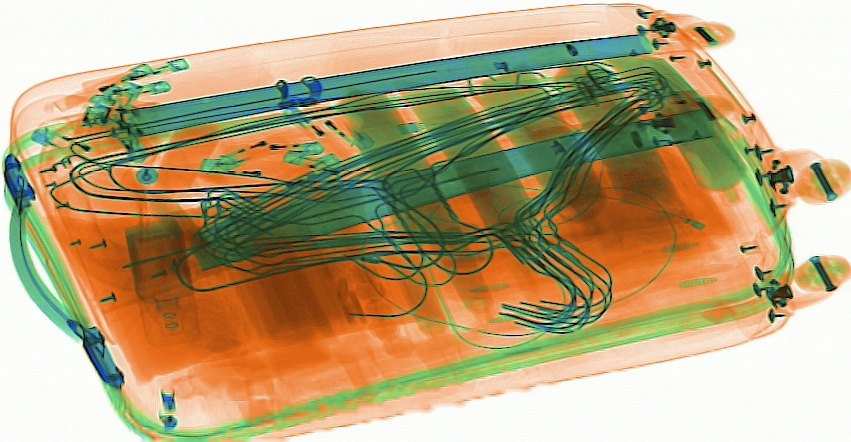lighter: (52, 59, 153, 114), (294, 95, 376, 155), (279, 102, 354, 167), (79, 56, 190, 99), (280, 147, 376, 189), (75, 75, 172, 113), (208, 127, 291, 171), (218, 137, 326, 160), (197, 156, 288, 181)
